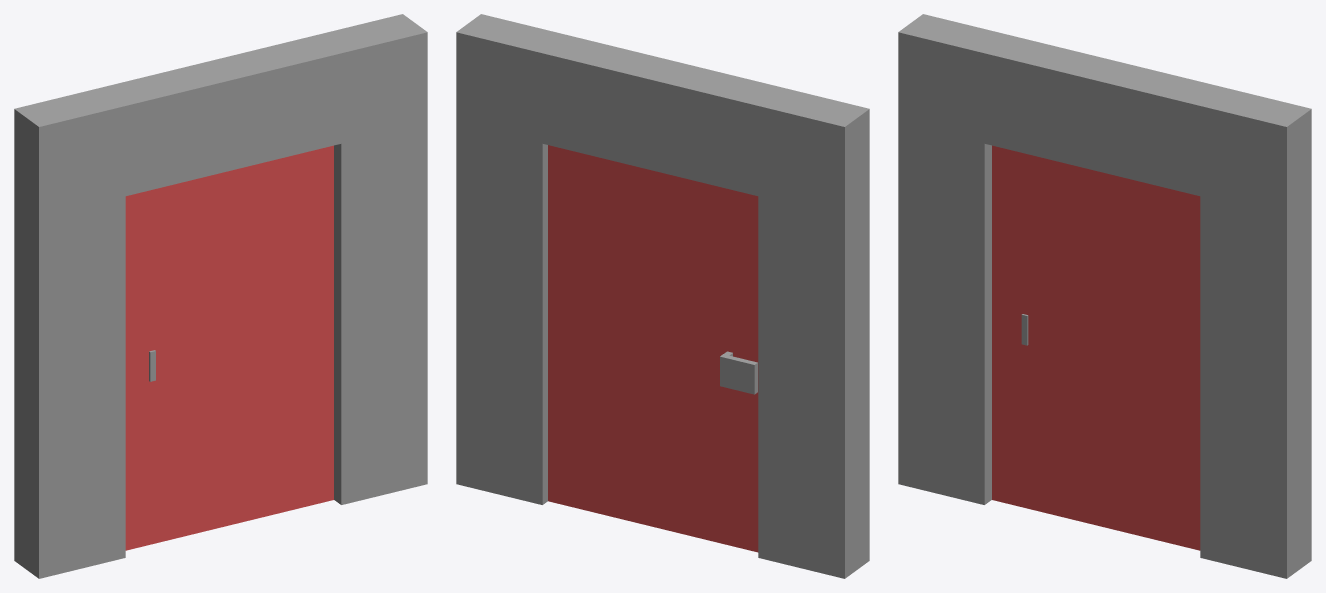
File: DoorTest3.fbx
3 renders of one model, left to right at view 1: azimuth 30°, elevation 25°; view 2: azimuth 150°, elevation 25°; view 3: azimuth 330°, elevation 25°, orthographic.
Parts seen in each view (by area): view 1: pCube11; view 2: pCube11; view 3: pCube11.
Boxes of the visible parts, x1,y1,x2,y2 form: pCube11: (14, 14, 427, 578); pCube11: (456, 14, 869, 578); pCube11: (898, 14, 1311, 578).
Bounding box in the file's own units: 225 × 250 × 26.68.
